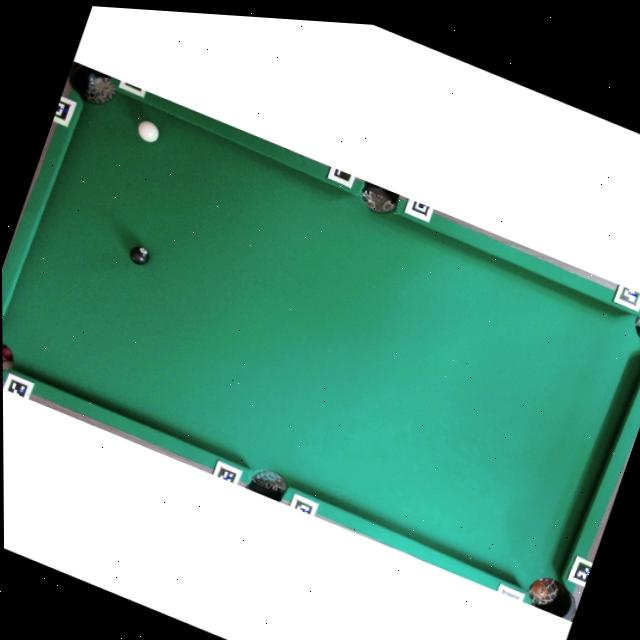cue ball: (133, 117, 162, 146)
other: (125, 240, 152, 268)
